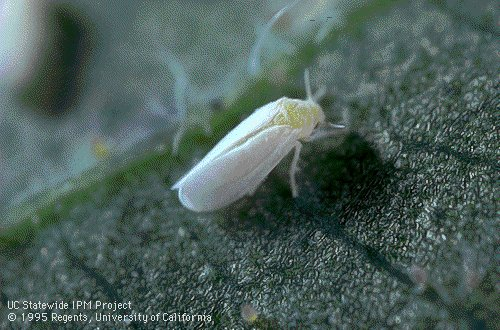whitefly: (170, 68, 332, 216)
